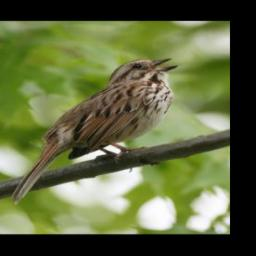Sparrow: (11, 55, 182, 204)
